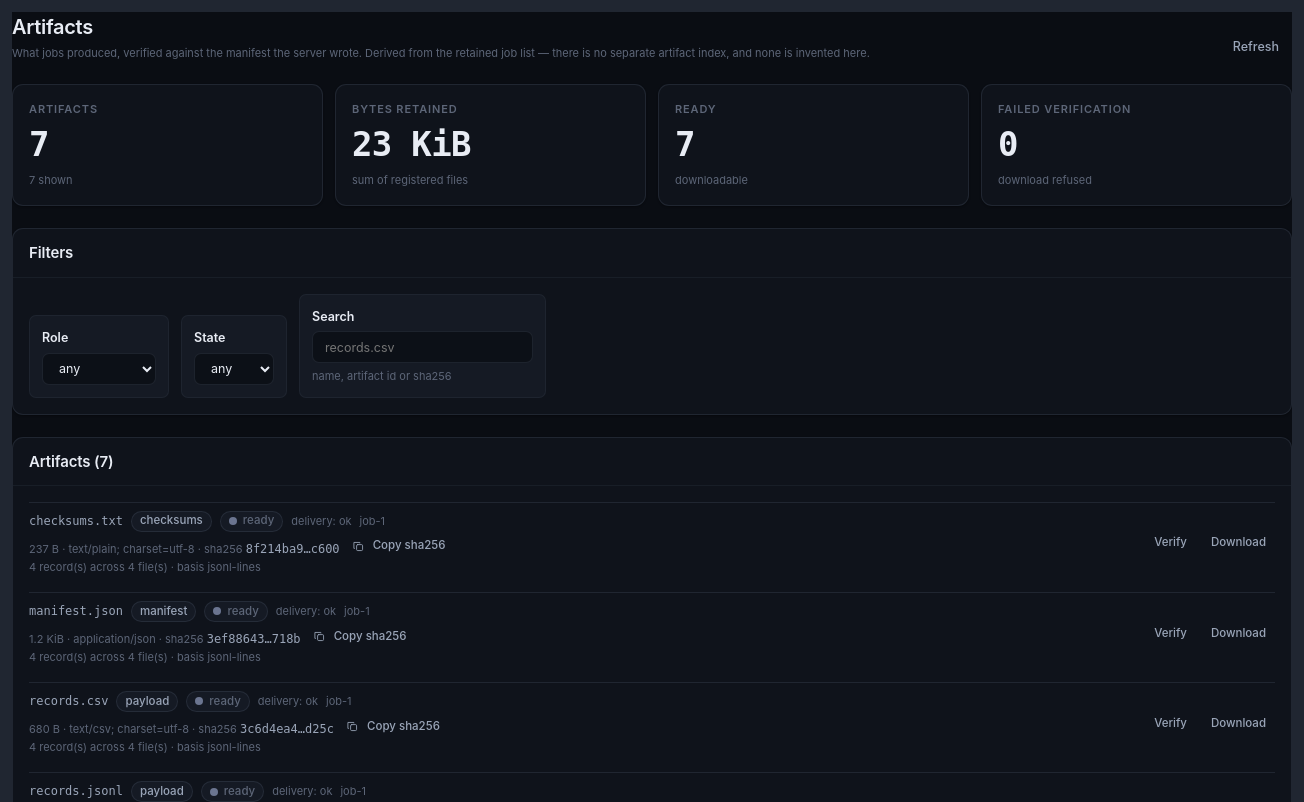
it: Artifacts page › verifies through the server and shows the recorded verdict
Expected: the element with test id "artifact-row" that starts with "records.csv" is shown, [29, 682, 1275, 764]
Click the button "Verify" in the row of "3c6d4ea4…d25c" at (1171, 724), box [1145, 711, 1196, 736]
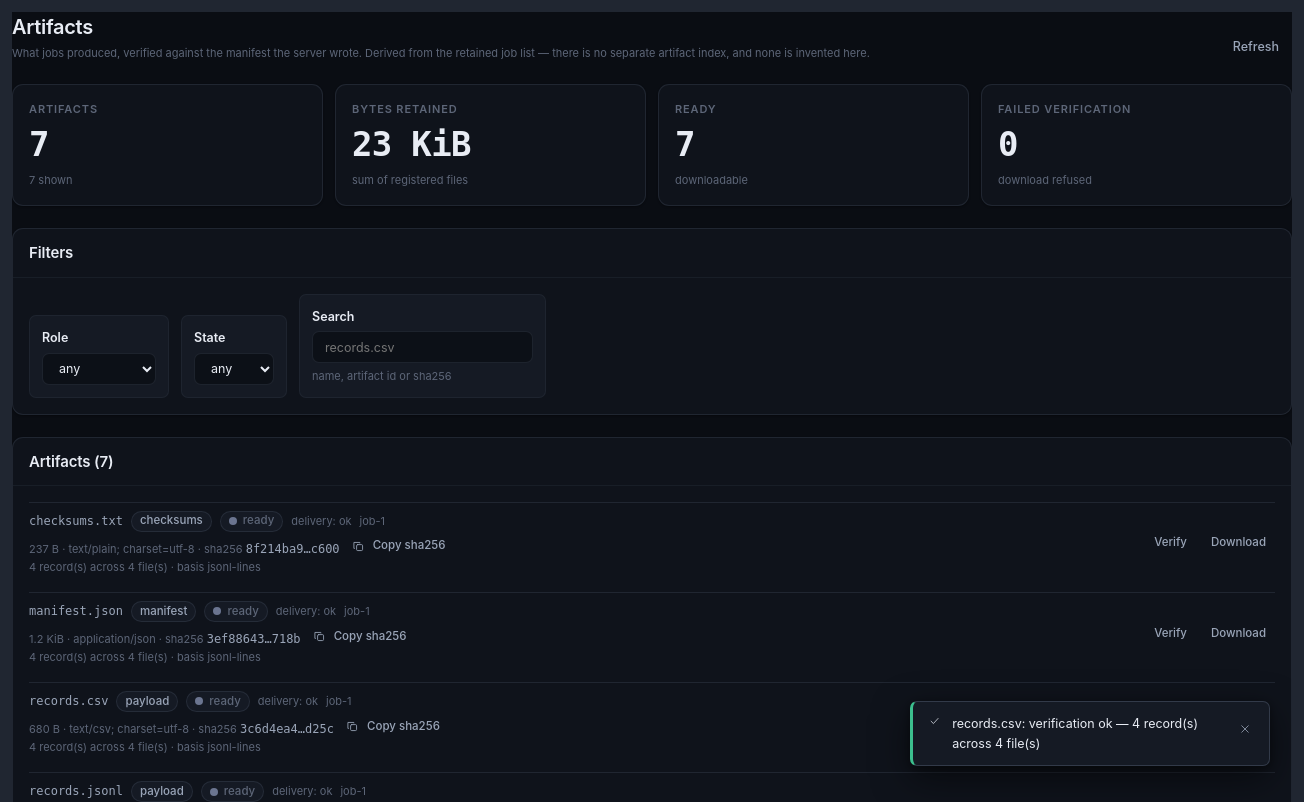
Expected: the text "4 record(s) across 4 file(s)" is shown, [29, 560, 261, 574]
Now the text "verification ok" is shown, box [952, 716, 1198, 751]
